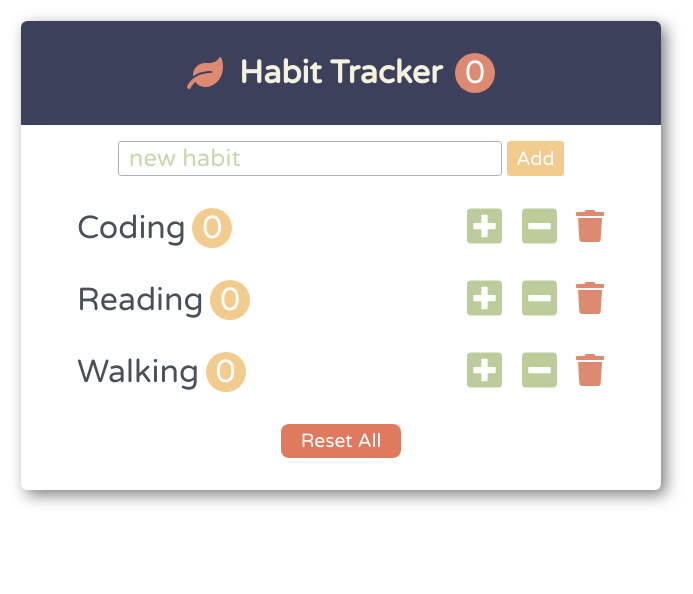
Test: Habit Tracker › adds new habit at the end
Type "New Habit" into the field with placeholder "new habit" at coordinates (310, 159), box x1=118 y1=141 x2=502 y2=176
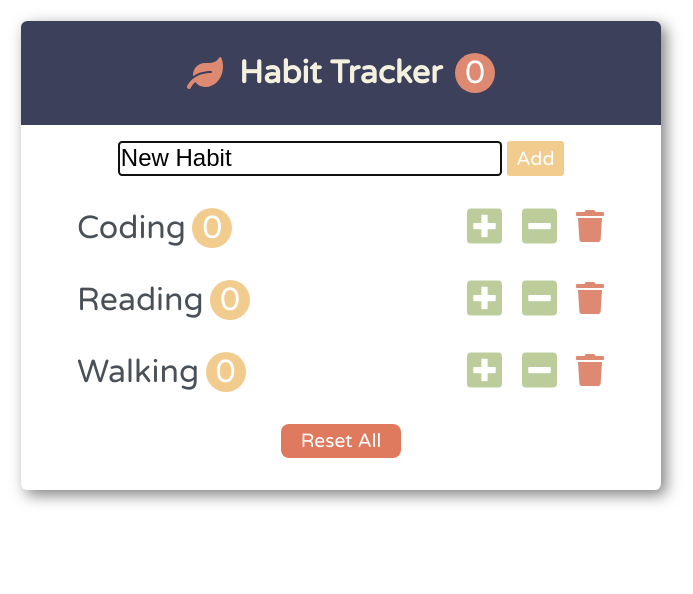
Click the button "Add" at coordinates (536, 159), box x1=507 y1=141 x2=565 y2=176
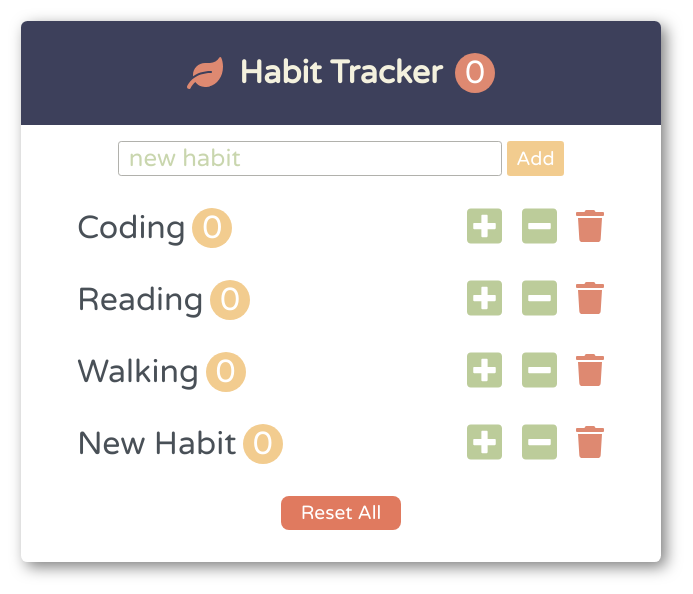
Result: the text with test id "habit-name" reads "New Habit" at x1=77 y1=425 x2=236 y2=463
Result: the text with test id "habit-count" next to "New Habit" reads "0" at x1=243 y1=424 x2=283 y2=464
